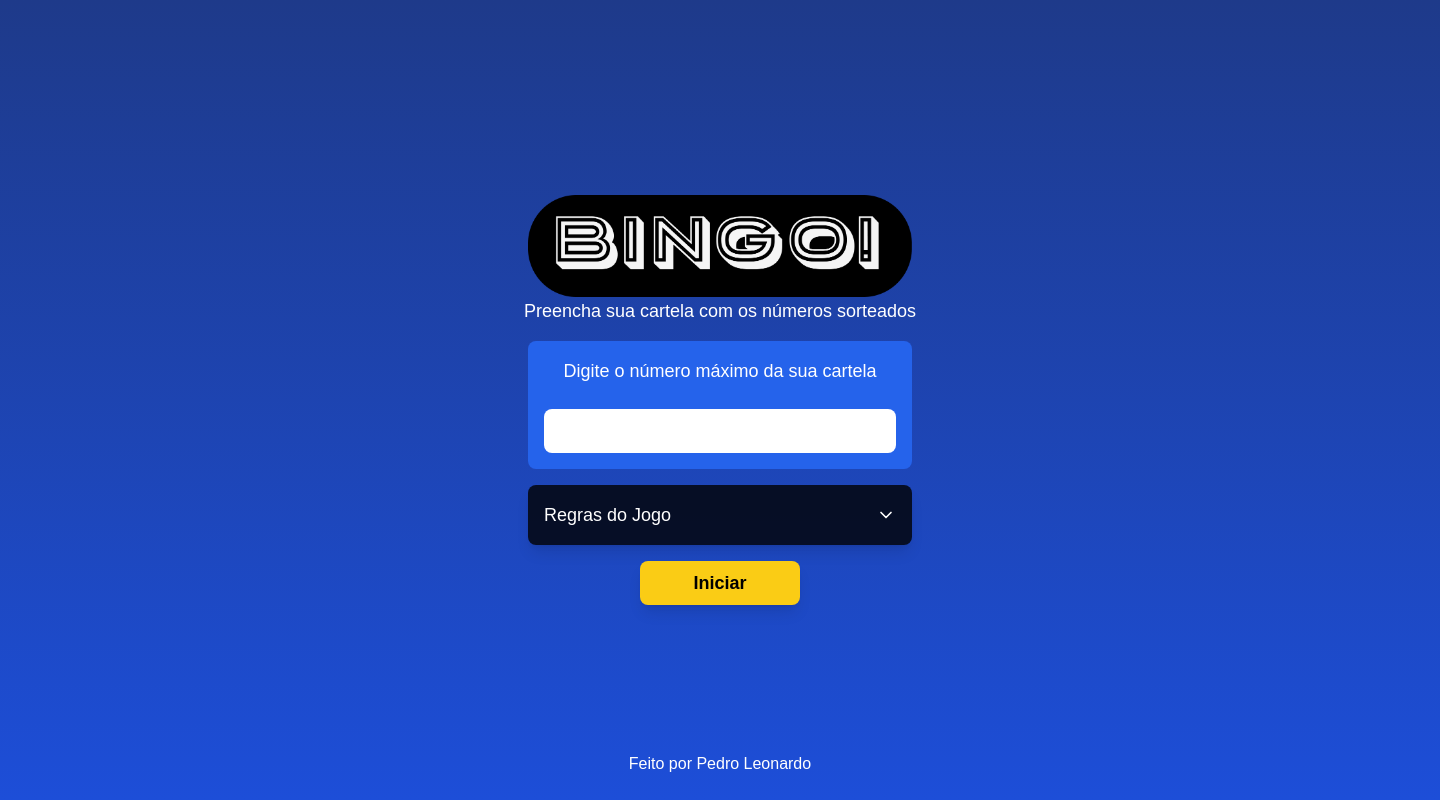
Test: Página de Bingo › deve renderizar a interface corretamente
Type "10" into the number field named "maxLength" at (720, 431), box [544,409,896,453]
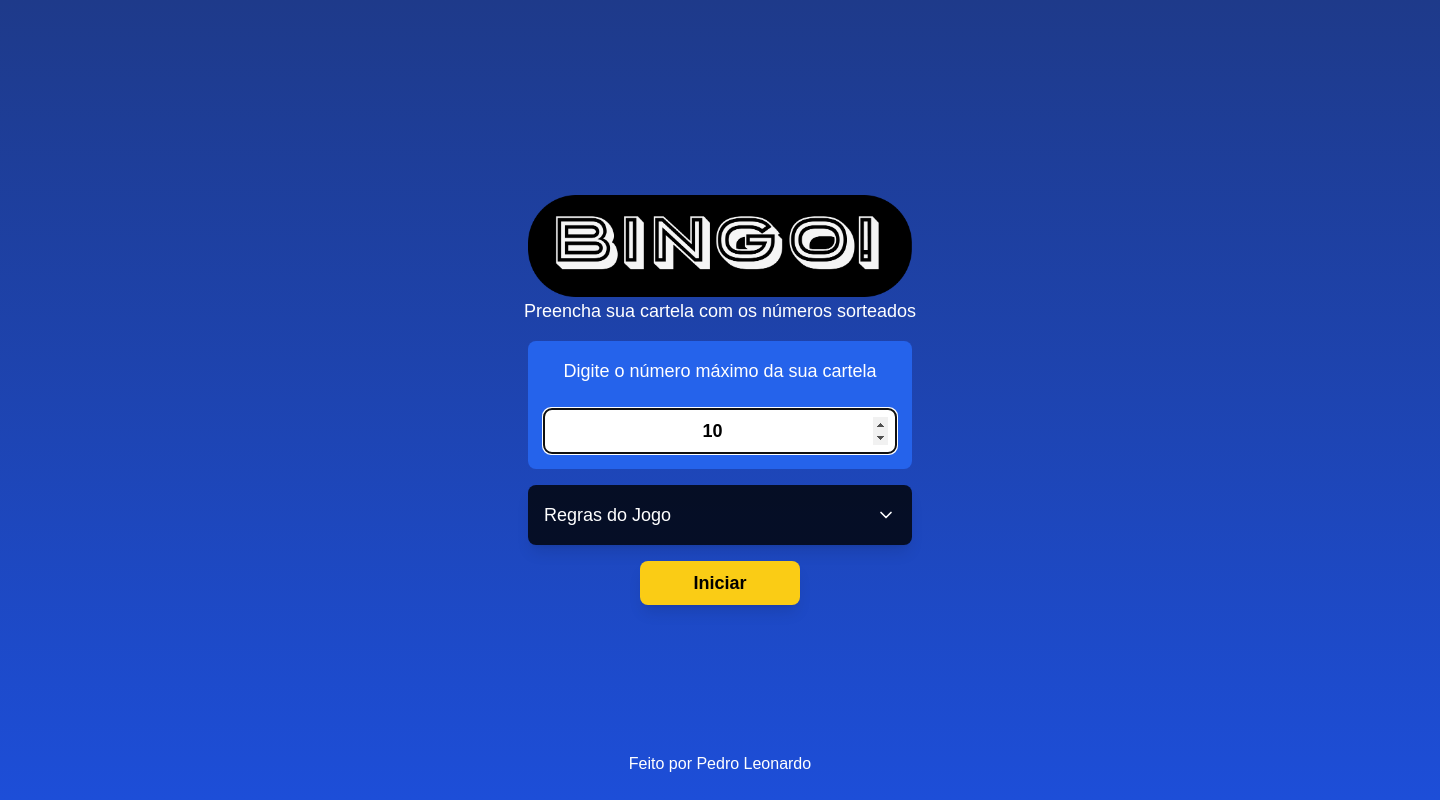
Click the button "Iniciar" at (720, 583), box [640,561,800,605]
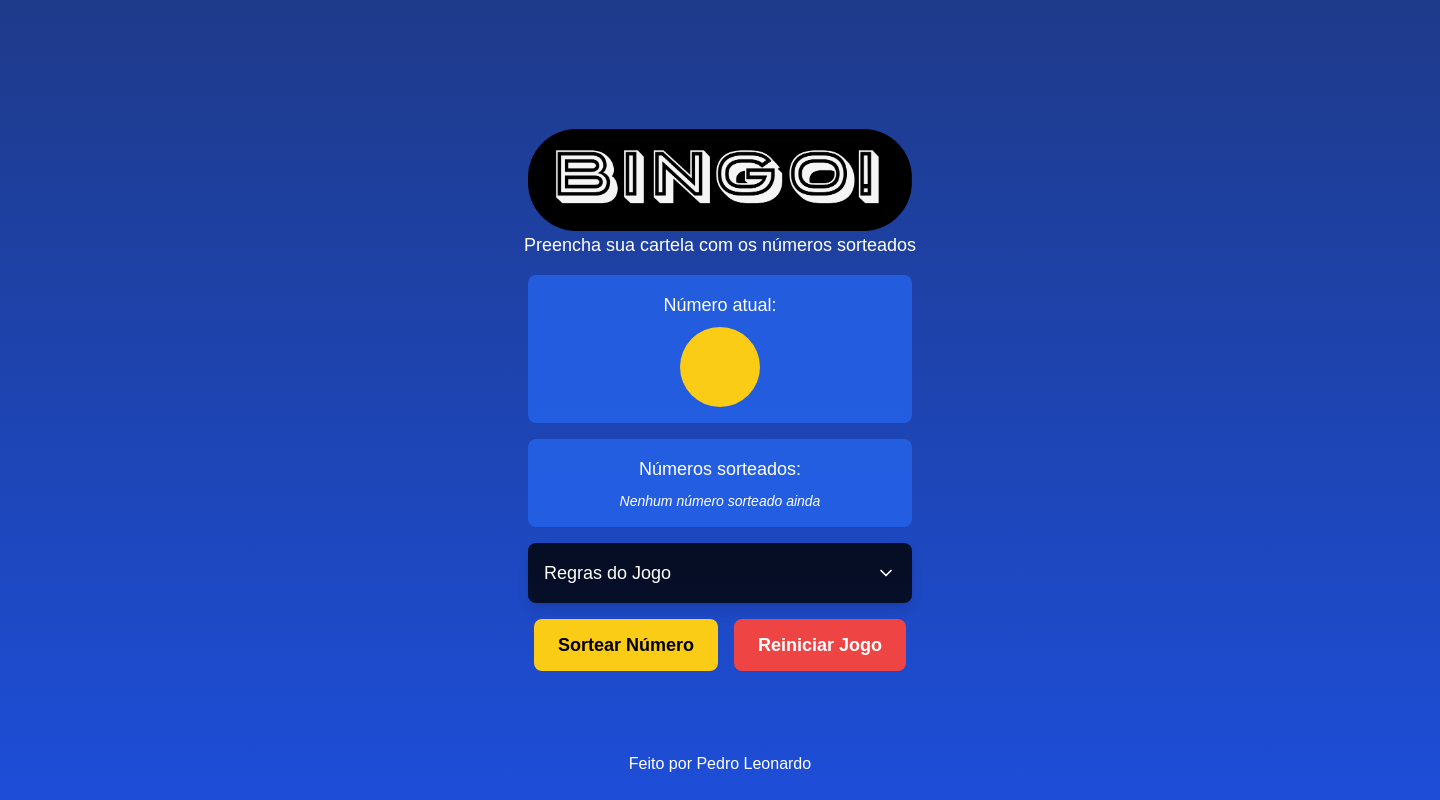
Expected: the text "Número atual:" is shown, [664,291,777,319]
Expected: the text "Nenhum número sorteado ainda" is shown, [620,491,820,511]
Expected: the button "Sortear Número" is shown, [534,619,718,671]
